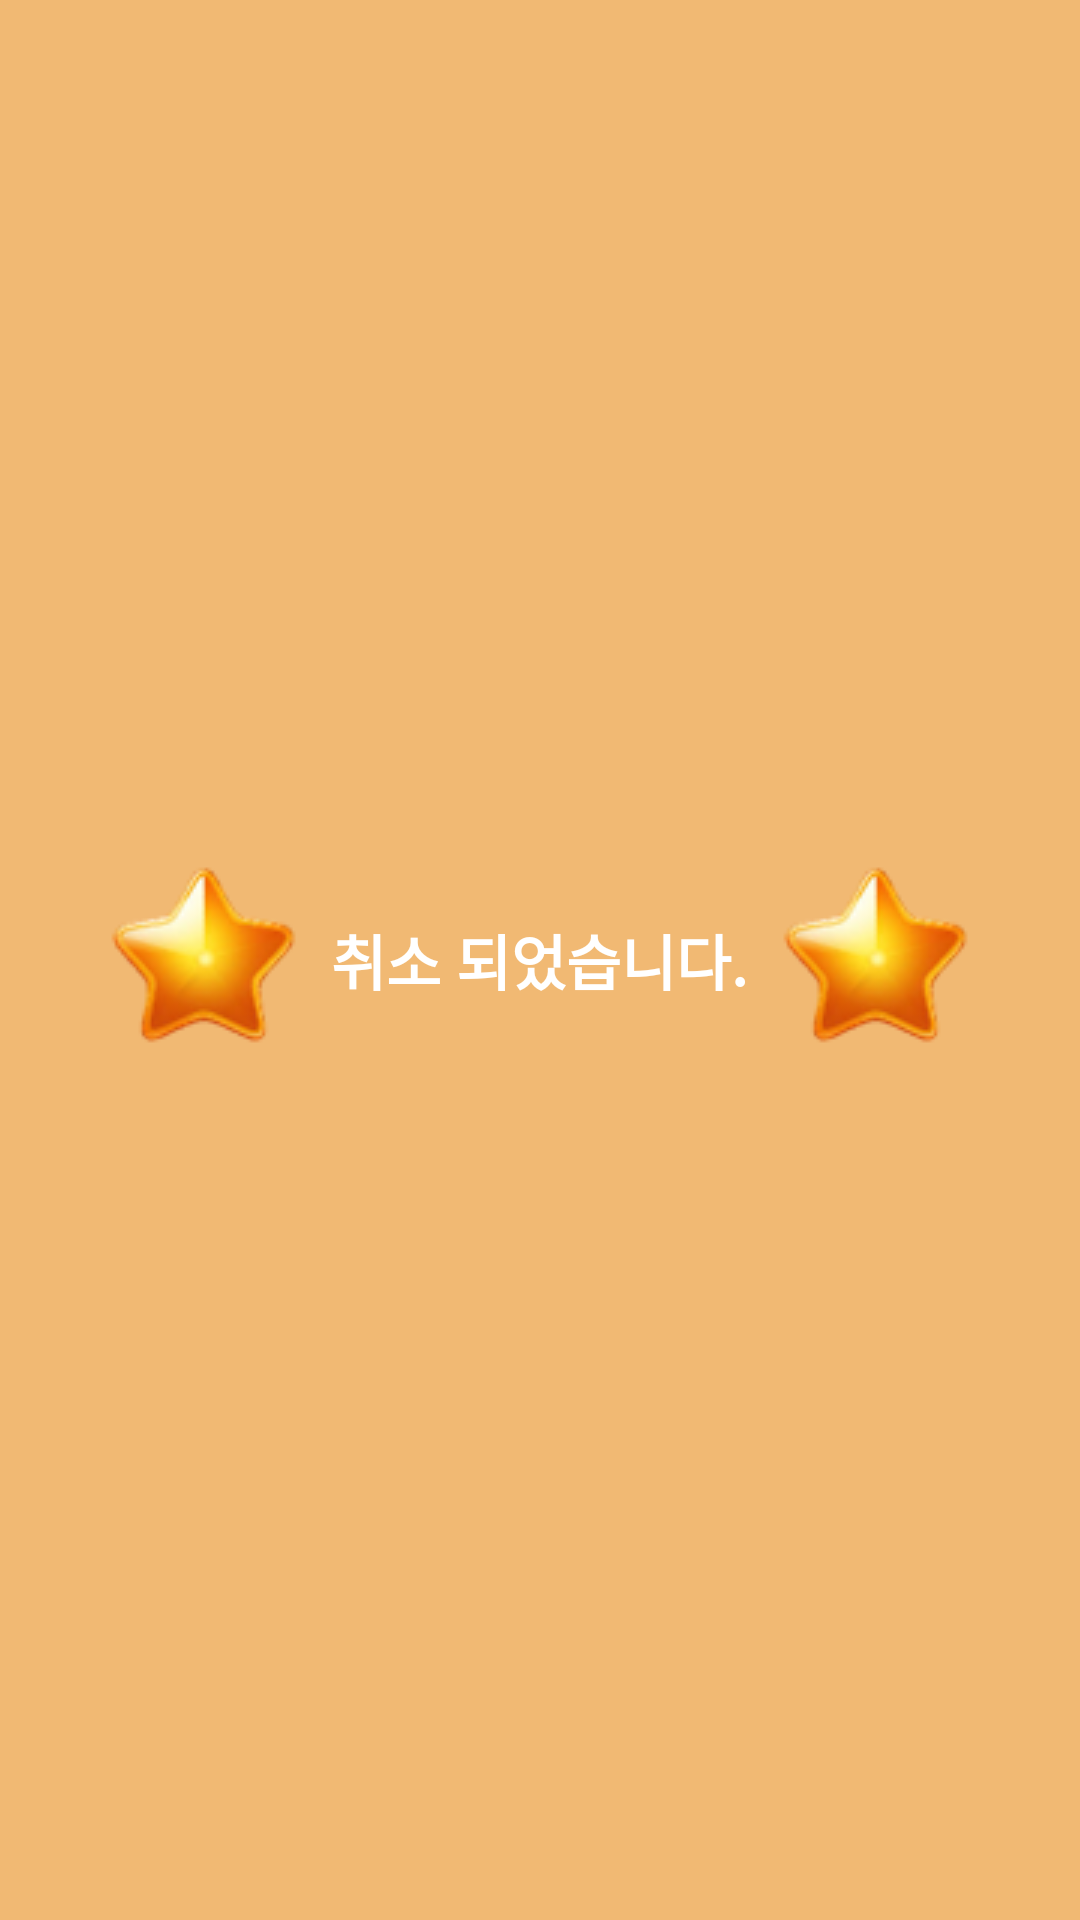

Screen size 1080×1920. Icon name, then its center in pixels as [x,y]:
star: [203,955], [875,955]
